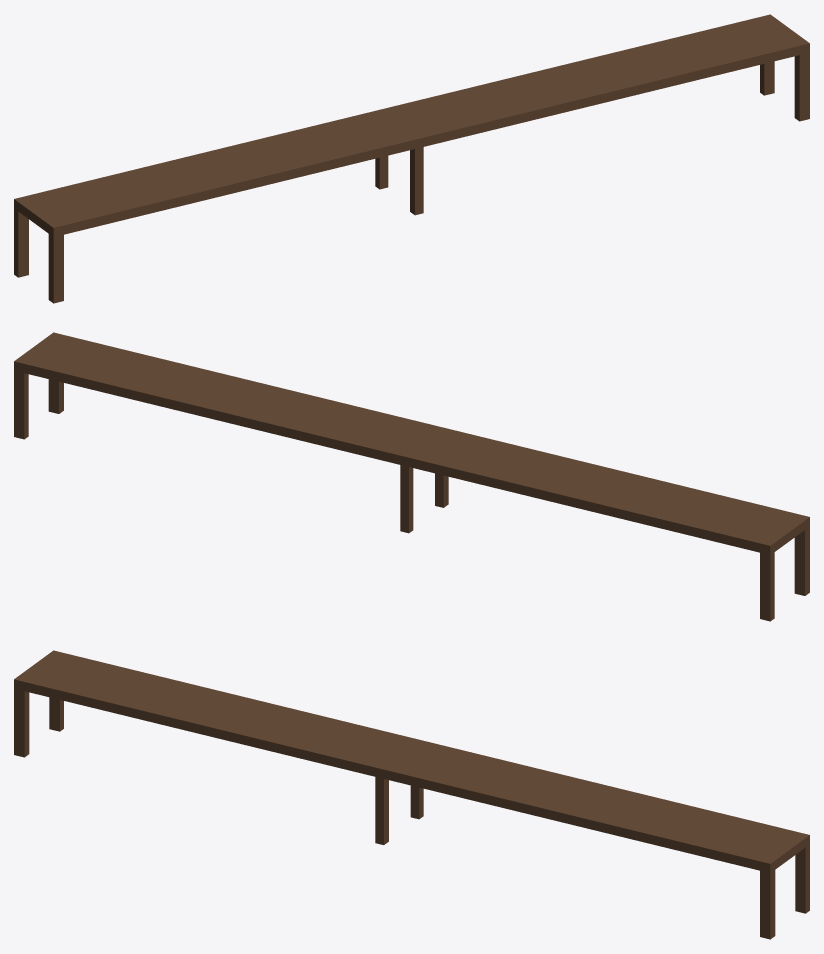
The model's file is bench.fbx.
3 views of the same model, one above another, from view 1: azimuth 30°, elevation 25°; view 2: azimuth 150°, elevation 25°; view 3: azimuth 330°, elevation 25° (orthographic).
Visible parts, largest first — view 1: Cube.002; view 2: Cube.002; view 3: Cube.002.
Part boxes in pixels (x1,y1,x2,y2): Cube.002: (14,14,809,303); Cube.002: (14,332,809,621); Cube.002: (14,650,809,939).
Bounding box in the file's own units: 1711 × 163 × 155.
